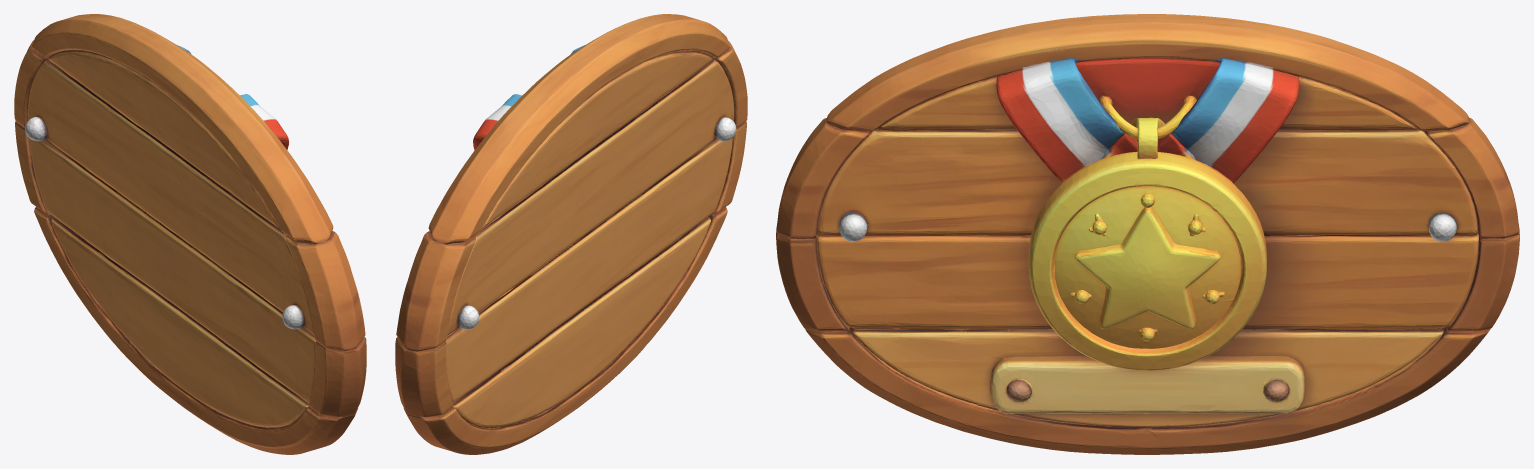
File: sign_9.glb
3 views of the same model, side by side, from view 1: azimuth 30°, elevation 25°; view 2: azimuth 150°, elevation 25°; view 3: azimuth 270°, elevation 25° (orthographic). The views are drawn at different scales.
Parts seen in each view (by area): view 1: tripo_node_faeb35ba-6ae4-4e75-acd9-5f3fd7497068; view 2: tripo_node_faeb35ba-6ae4-4e75-acd9-5f3fd7497068; view 3: tripo_node_faeb35ba-6ae4-4e75-acd9-5f3fd7497068.
Boxes of the visible parts, x1,y1,x2,y2 form: tripo_node_faeb35ba-6ae4-4e75-acd9-5f3fd7497068: [14, 14, 366, 454]; tripo_node_faeb35ba-6ae4-4e75-acd9-5f3fd7497068: [395, 14, 747, 454]; tripo_node_faeb35ba-6ae4-4e75-acd9-5f3fd7497068: [776, 14, 1519, 454].
Size of the model in its own units: 0.1963 by 0.6187 by 1.
Materials: 1 (1 with a texture image).
